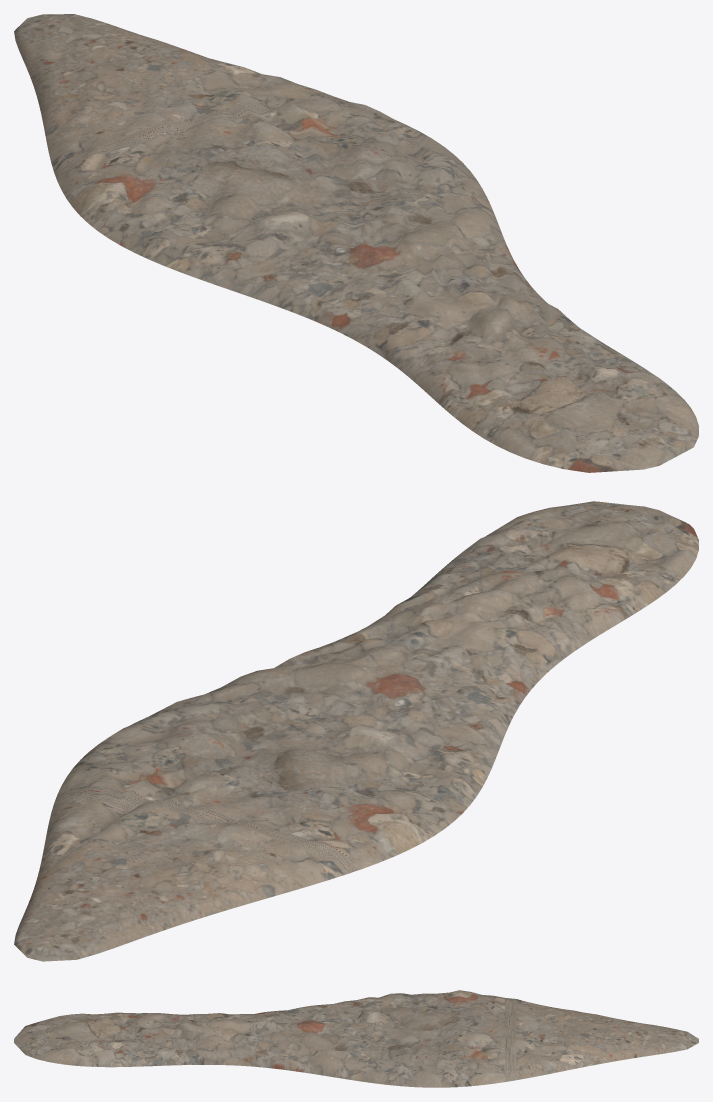
File: scan-rubble-c.fbx
3 views of the same model, one above another, from view 1: azimuth 30°, elevation 25°; view 2: azimuth 150°, elevation 25°; view 3: azimuth 270°, elevation 25° (orthographic). The views are drawn at different scales.
Visible parts, largest first — view 1: scan-rubble-c; view 2: scan-rubble-c; view 3: scan-rubble-c.
Part boxes in pixels (left/top/right/bottom): scan-rubble-c: left=14, top=14, right=698, bottom=472; scan-rubble-c: left=14, top=501, right=698, bottom=961; scan-rubble-c: left=14, top=990, right=698, bottom=1087.
Size of the model in its own units: 56.41 by 4.92 by 174.
1 material, 1 textured.
